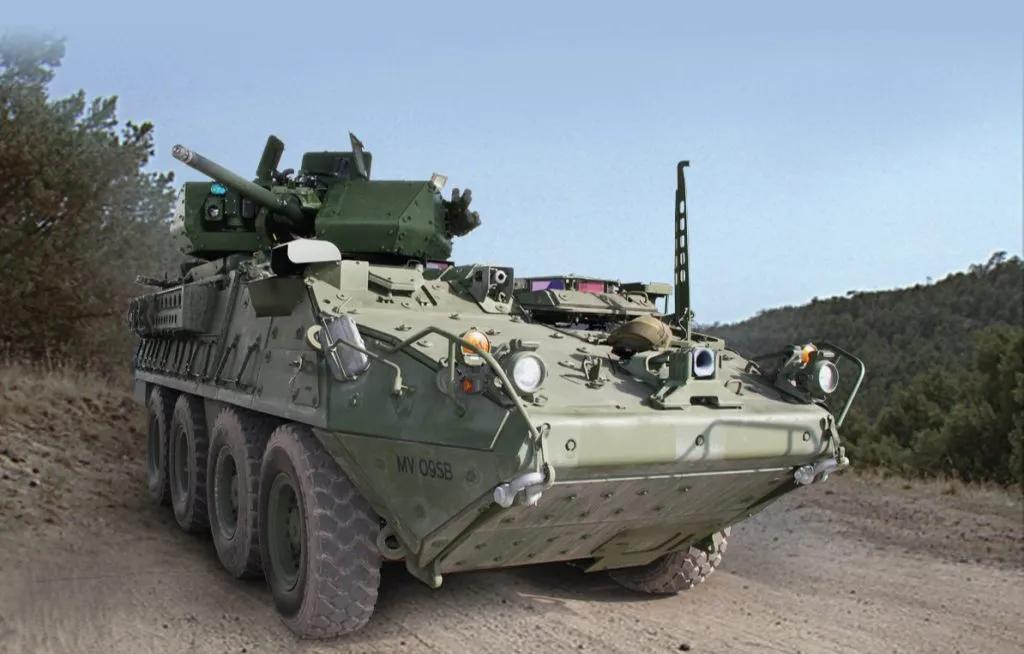MIL_IFV: (128, 137, 874, 641)
